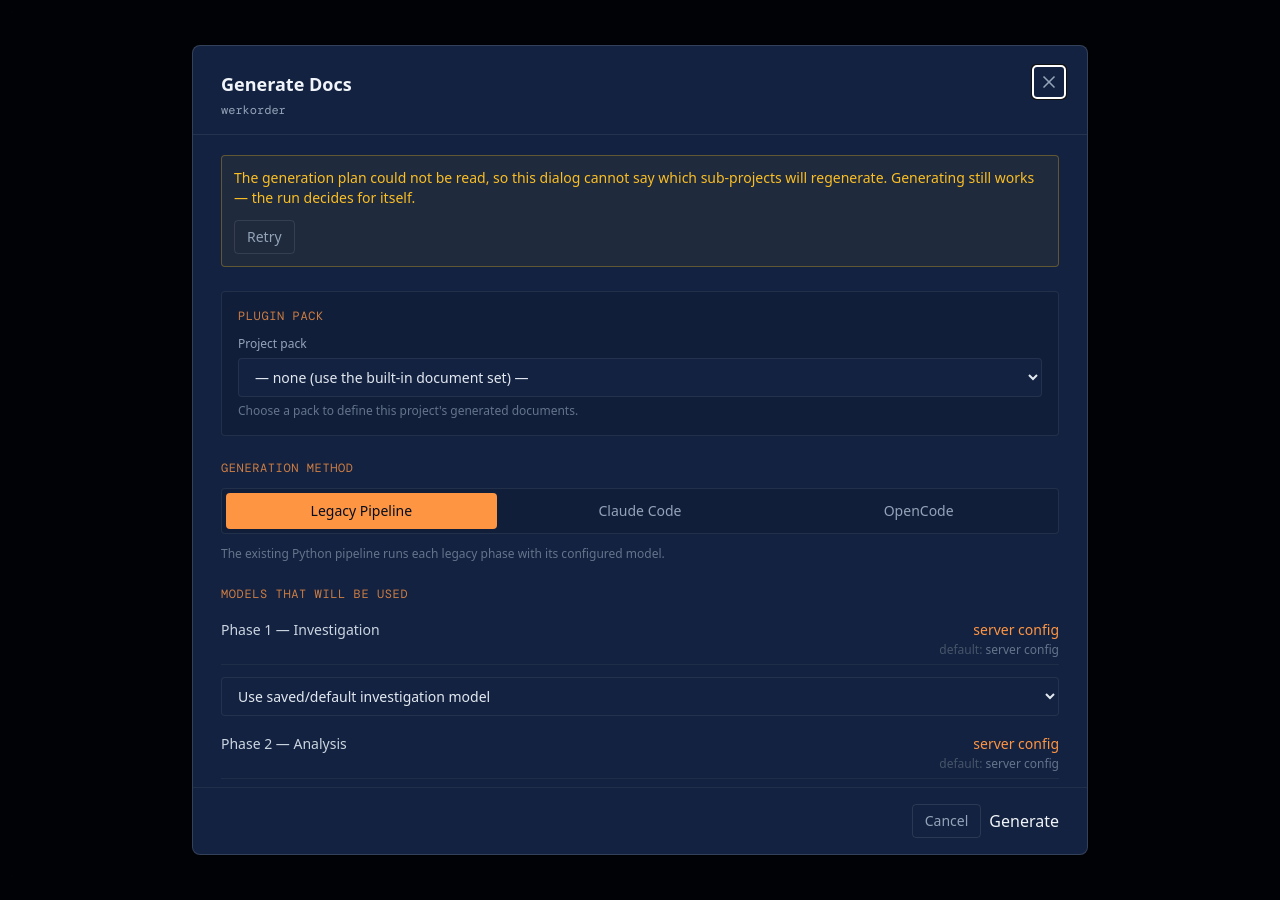
GenerateDialog generation plan preview › retries a failed plan without reopening the dialog
Click the button "Retry" at (264, 237), box [234,220,295,254]
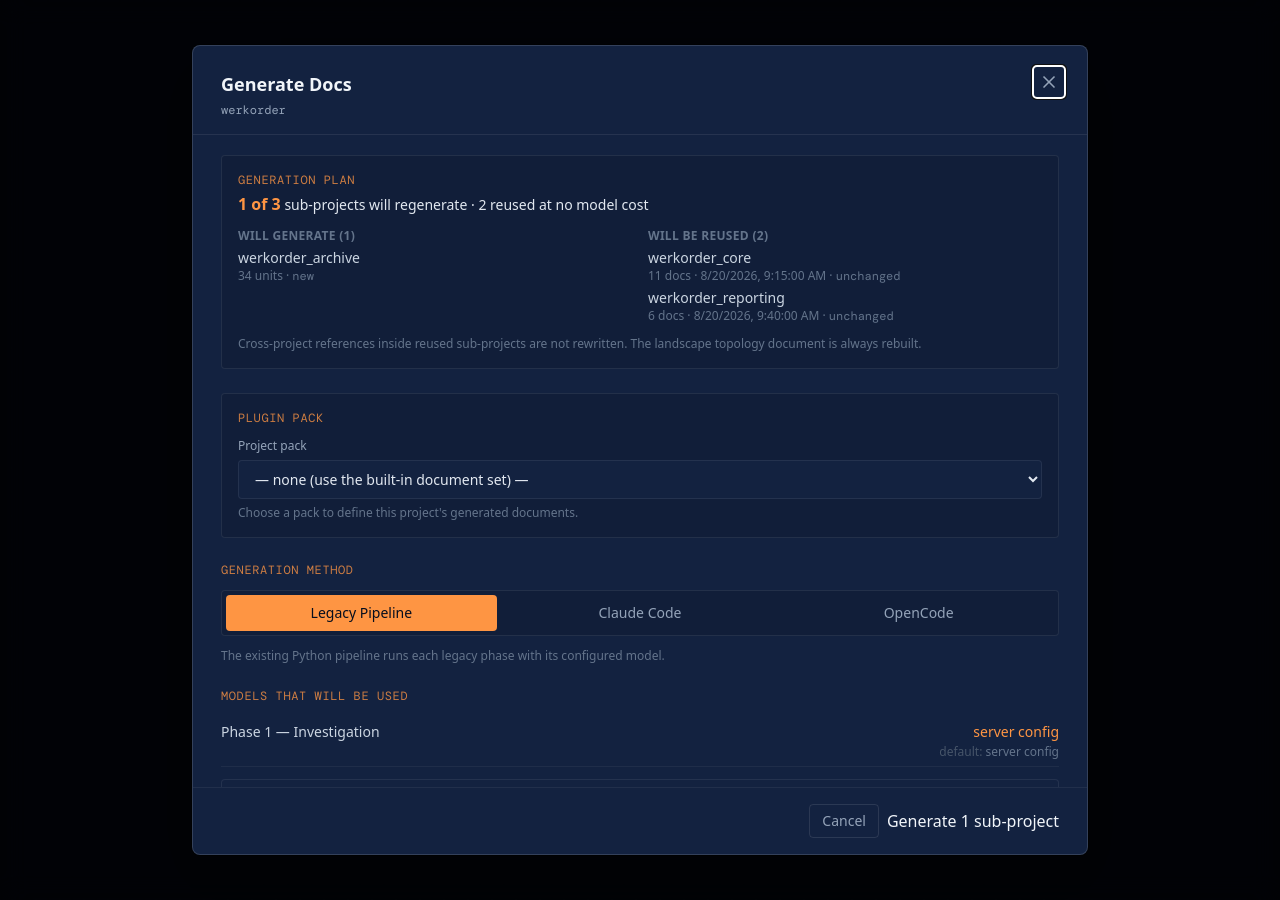
Now the text "1 of 3" is shown, box [238,193,281,215]
